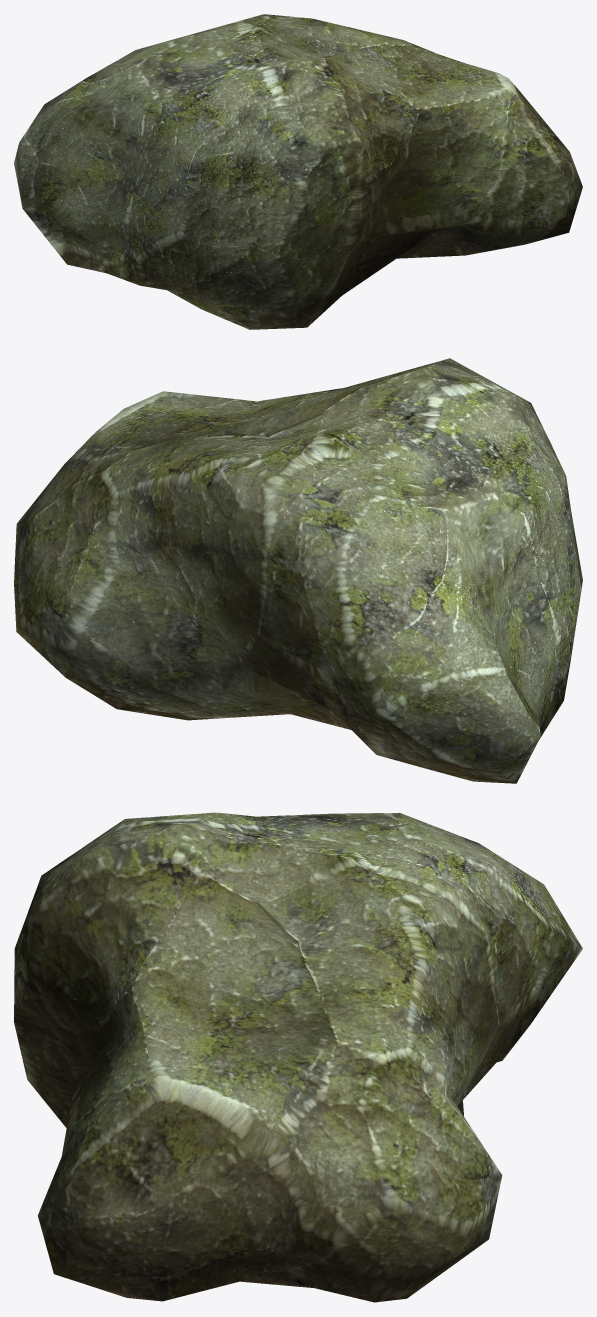
The model's file is rock_3.fbx.
3 views of the same model, one above another, from view 1: azimuth 30°, elevation 25°; view 2: azimuth 150°, elevation 25°; view 3: azimuth 270°, elevation 25° (orthographic). The views are drawn at different scales.
Visible parts, largest first — view 1: rock_3; view 2: rock_3; view 3: rock_3.
Boxes of the visible parts, <box> form: rock_3: <box>14,14,582,329</box>; rock_3: <box>14,358,582,783</box>; rock_3: <box>14,812,582,1302</box>.
Size of the model in its own units: 149 by 83.62 by 115.
